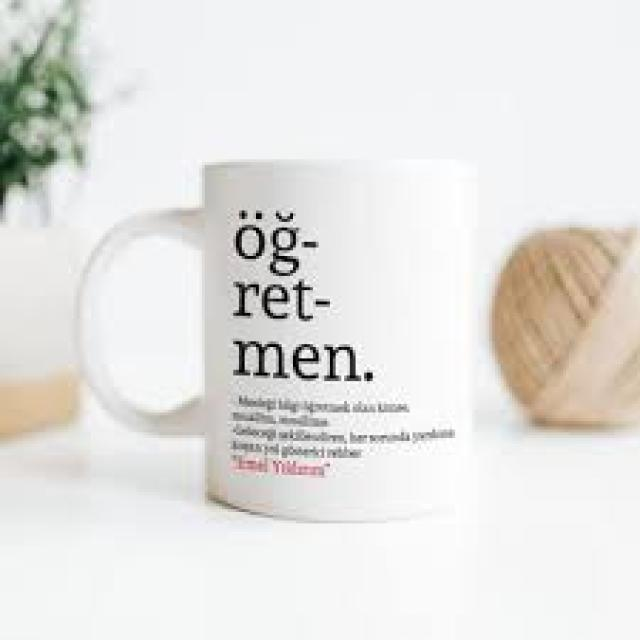taza: (77, 158, 470, 523)
